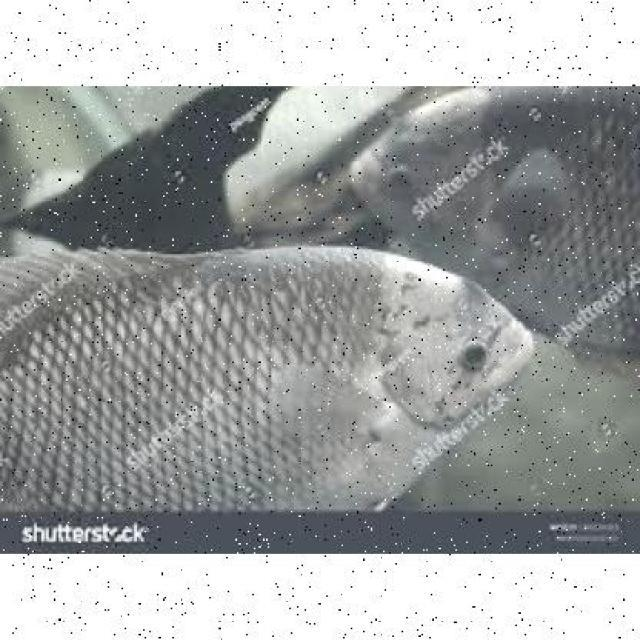gurame: (0, 238, 538, 512), (343, 84, 639, 356)
